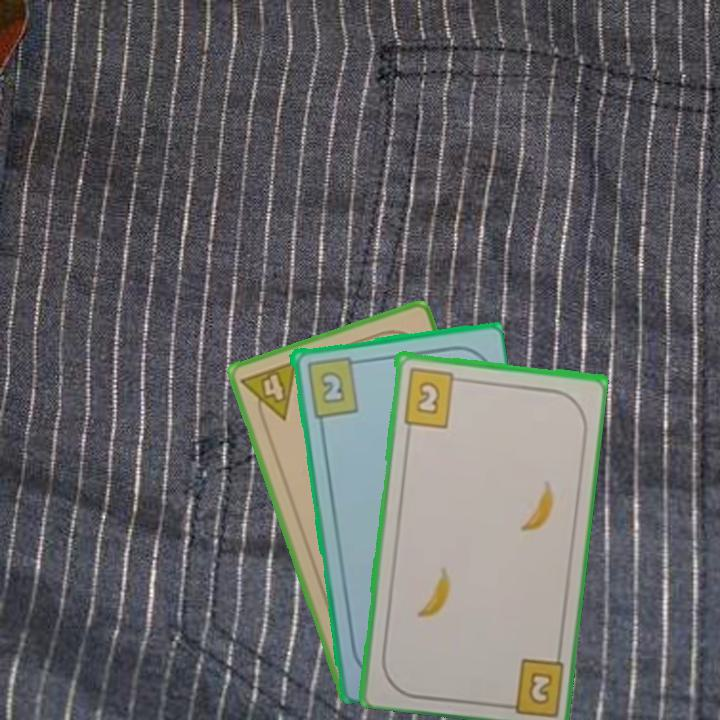2b: (399, 364, 466, 429), (496, 654, 566, 716), (302, 353, 364, 420)
4p: (237, 357, 300, 429)
